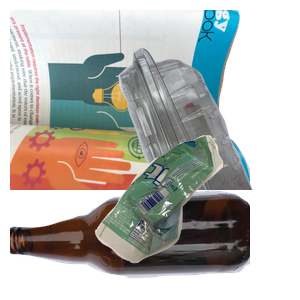glass: (10, 188, 250, 300)
paper: (10, 10, 250, 190)
plastic: (71, 45, 300, 225)
trash: (92, 133, 300, 300)
